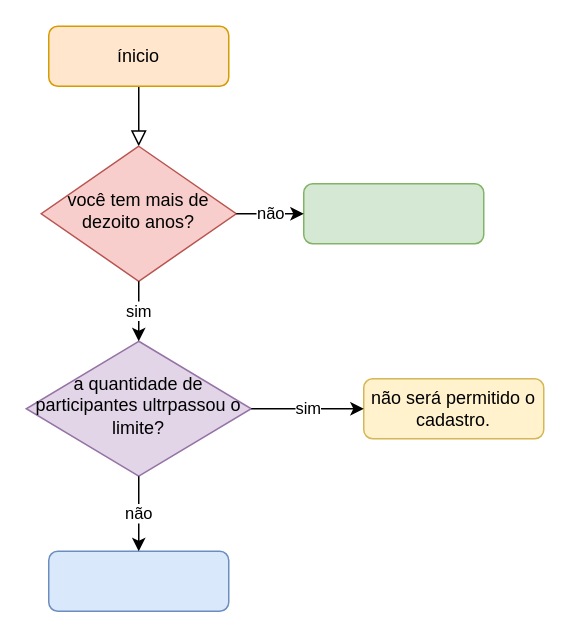
This 570x638 diagram has some shape labels left out. The shapes that lost their labels are listed below. From the top down, each one's box as (x1, y1, x2, y2) in pixels, then its label:
(302, 182, 484, 244): não pode cadastrar.
(47, 550, 229, 611): poderá participar do evento.
